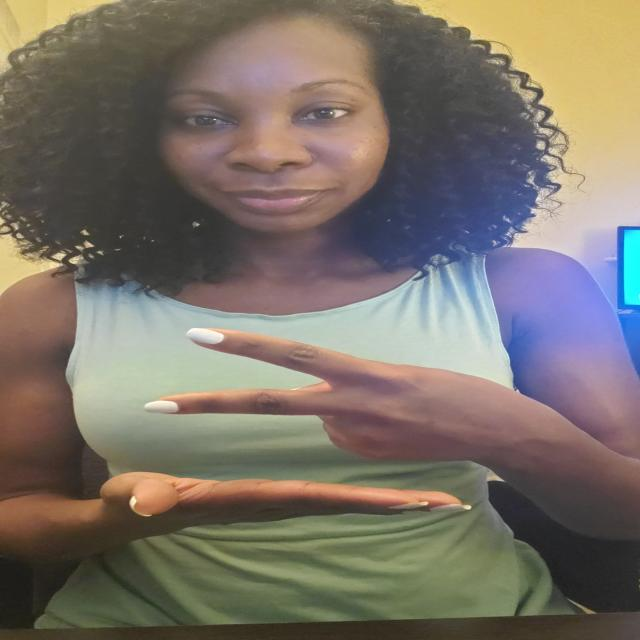Scissors: (137, 321, 531, 479)
